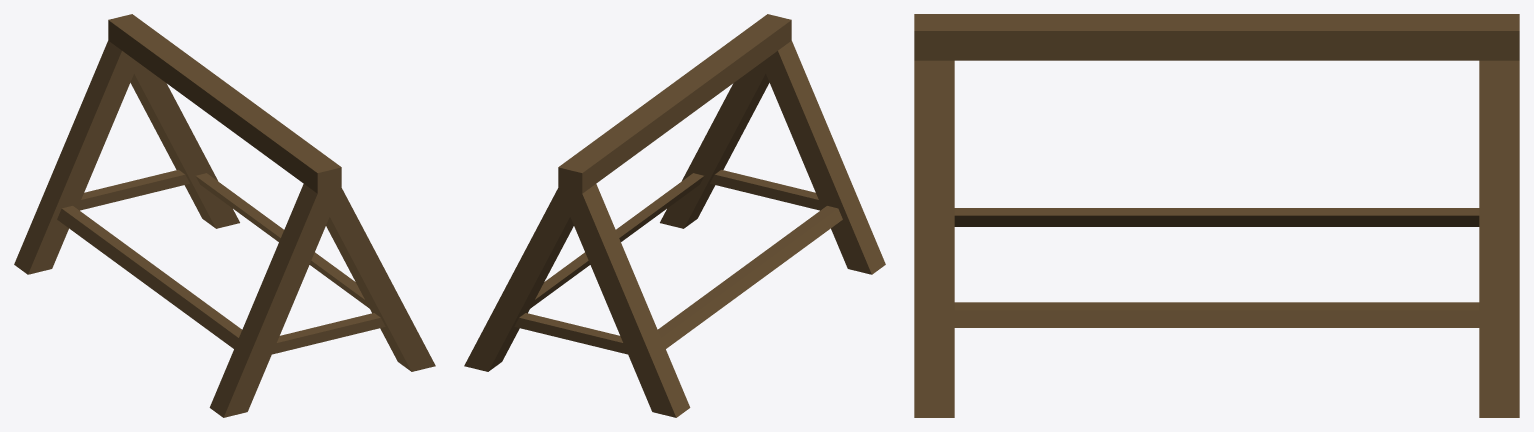
File: stand.fbx
3 renders of one model, left to right at view 1: azimuth 30°, elevation 25°; view 2: azimuth 150°, elevation 25°; view 3: azimuth 270°, elevation 25°, orthographic. The views are drawn at different scales.
Visible parts, largest first — view 1: Cube; view 2: Cube; view 3: Cube.
Boxes of the visible parts, x1,y1,x2,y2 form: Cube: (14,14,435,417); Cube: (464,14,885,417); Cube: (914,14,1519,417).
Size of the model in its own units: 645 by 643 by 1102.
